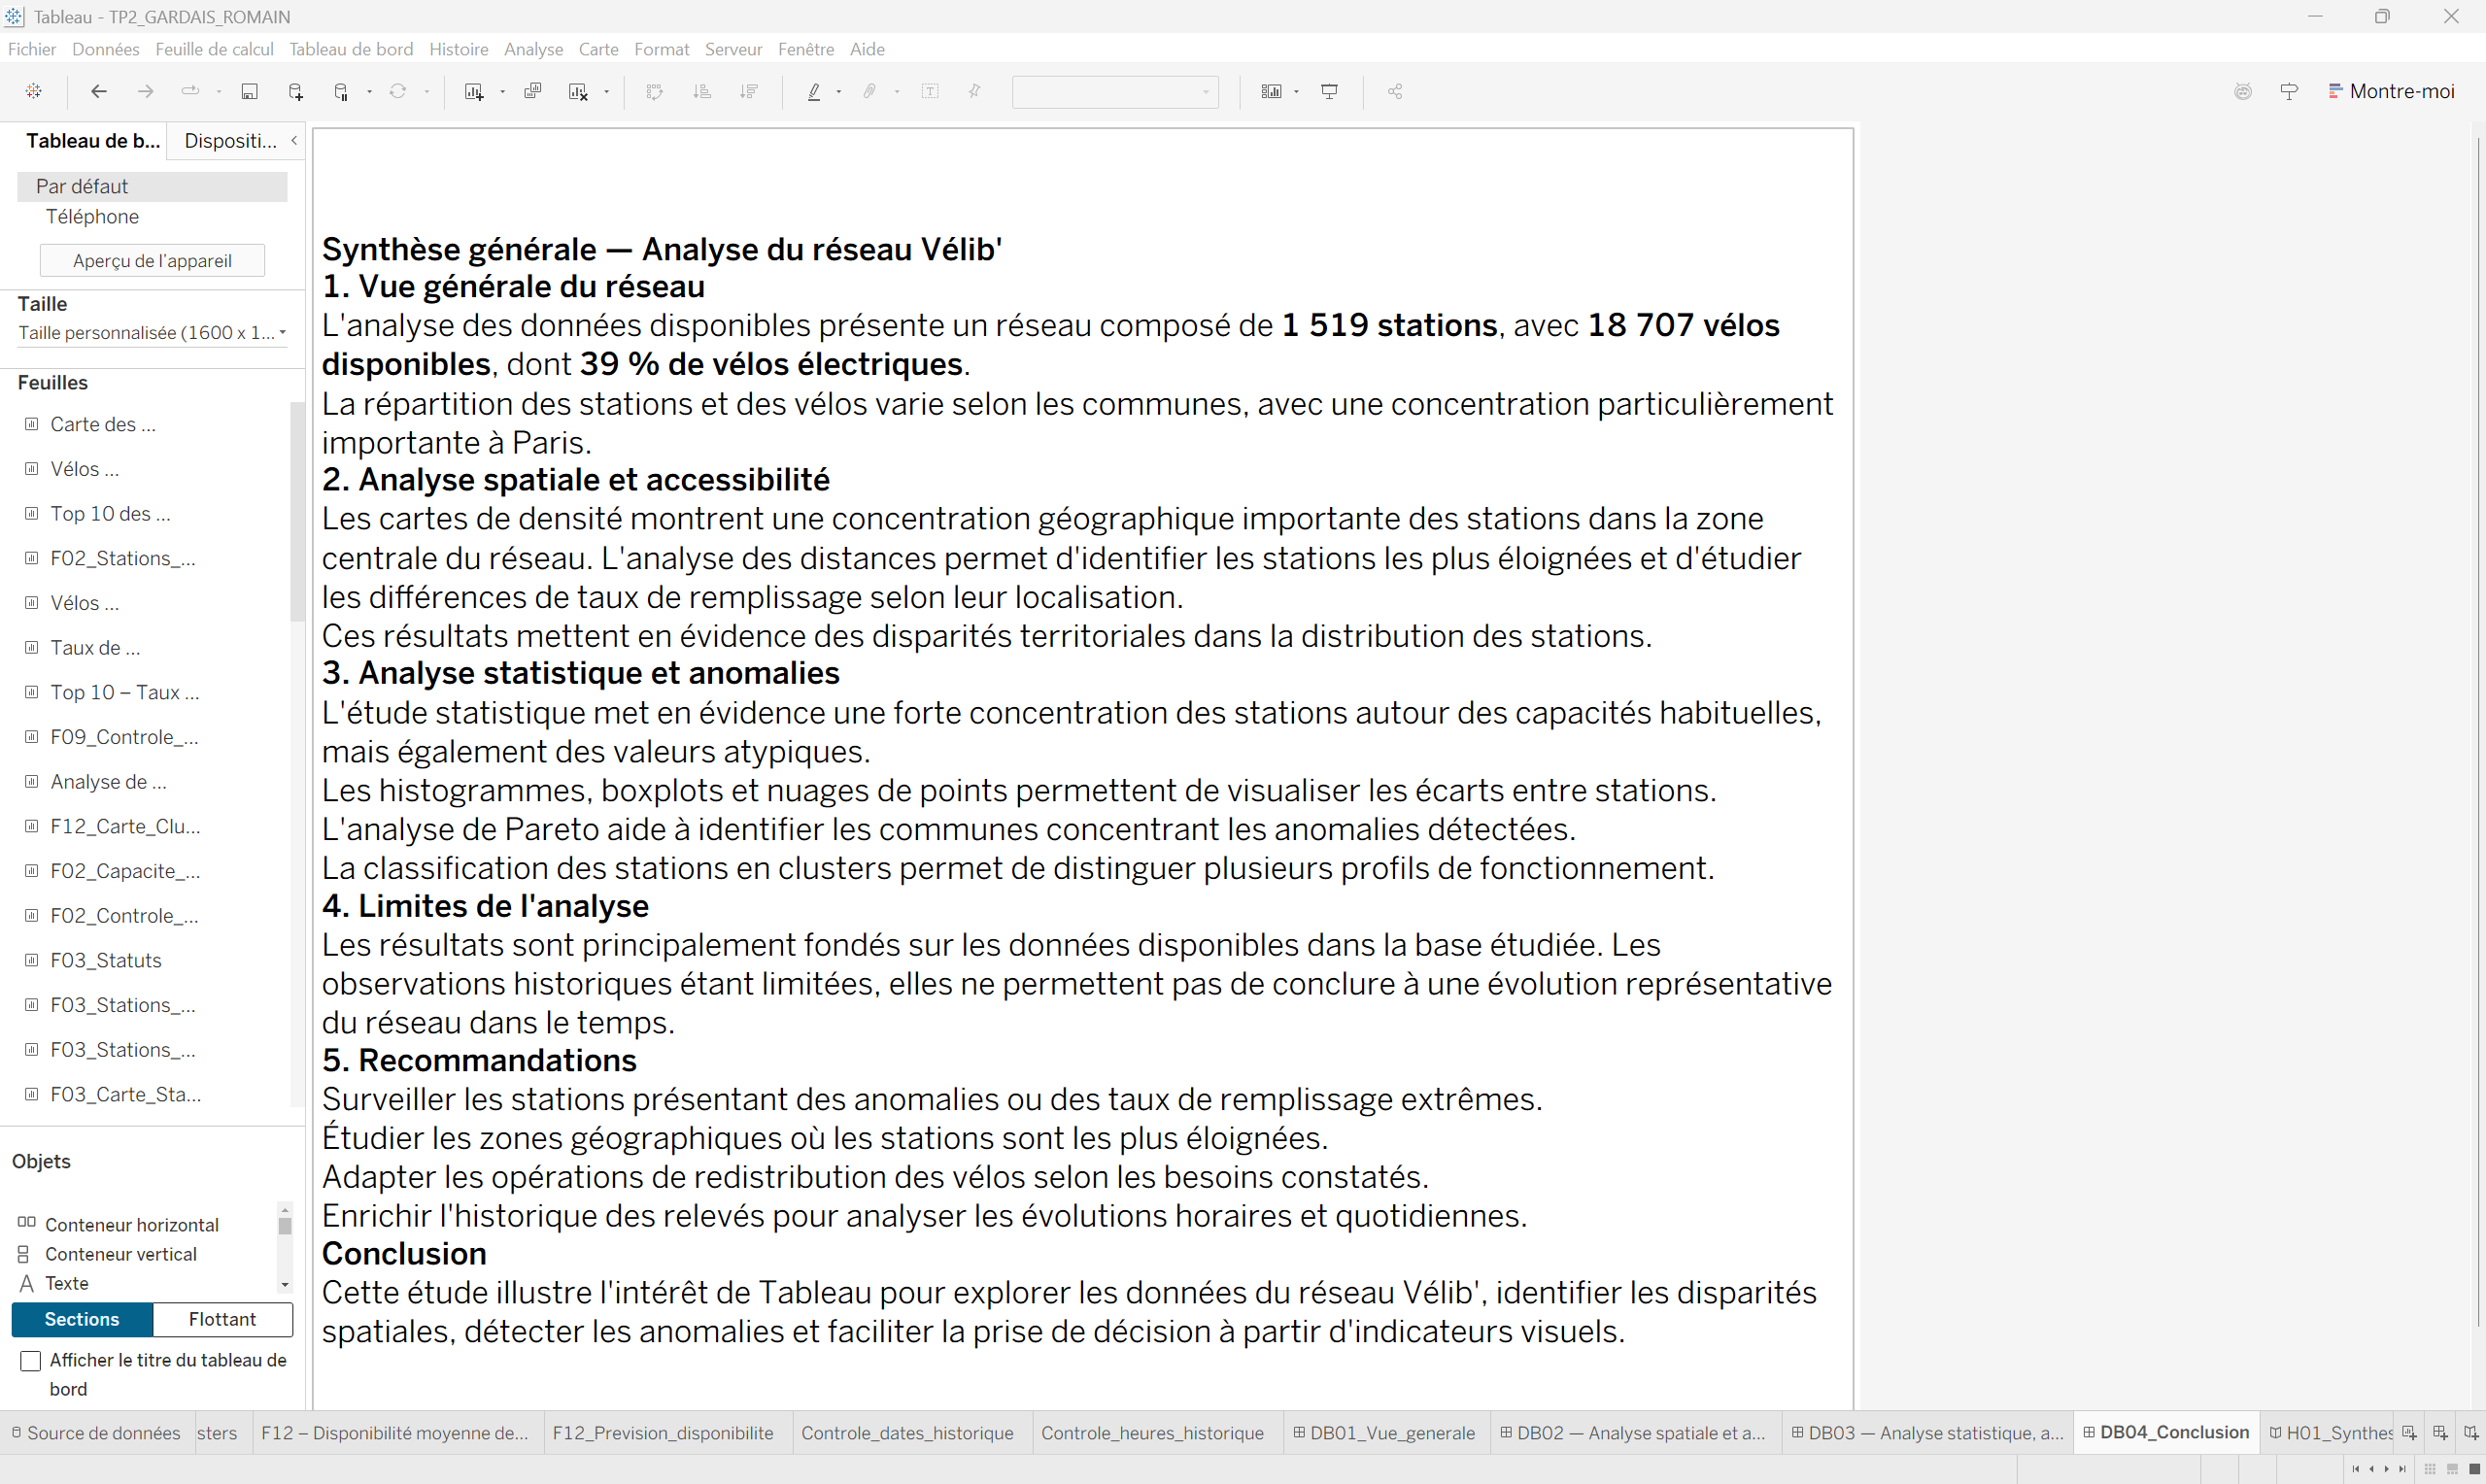

Layout of this report page (visuals, bound fields, positions):
{"tool":"tableau","page":{"name":"DB04_Conclusion","canvas":[1600,1400],"ordinal":3},"visuals":[{"type":"text","box":[8,8,1584,1384]}]}

Visuals, with their boxes on the page's 1600x1400 design canvas (x1, y1, x2, y2). These are canvas units, not pixel positions in the 2486x1484 screenshot, which may show the page scaled, cropped or inside an application window:
text: l=8, t=8, r=1592, b=1392
